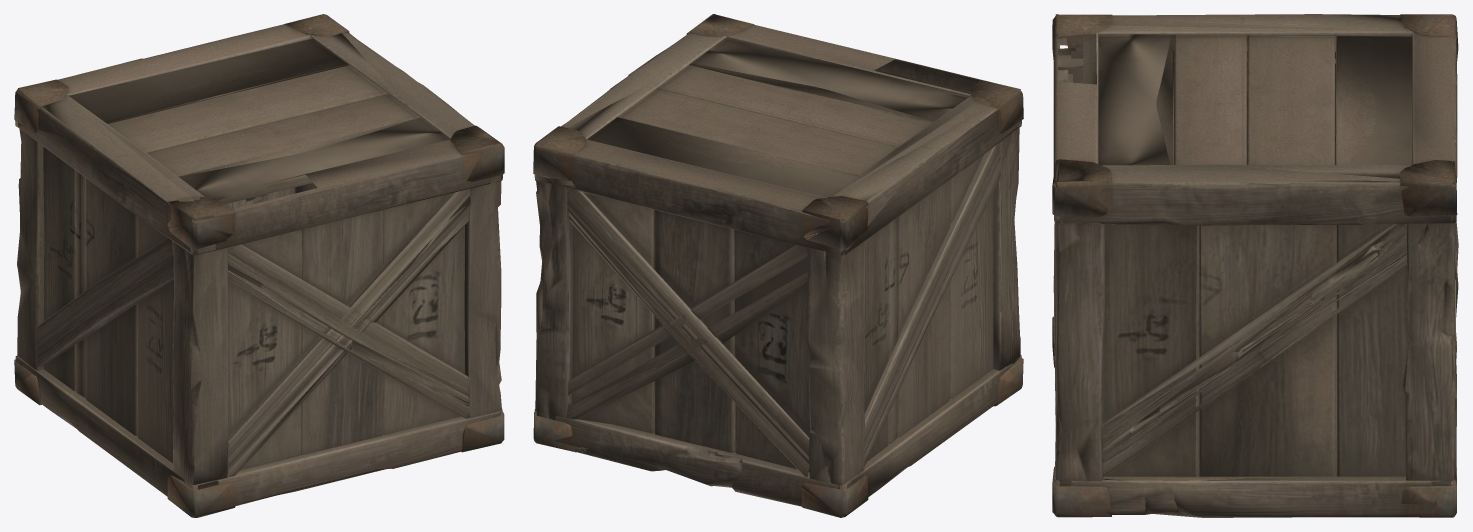
The model's file is crate.glb.
3 views of the same model, side by side, from view 1: azimuth 30°, elevation 25°; view 2: azimuth 150°, elevation 25°; view 3: azimuth 270°, elevation 25° (orthographic). The views are drawn at different scales.
Visible parts, largest first — view 1: crate; view 2: crate; view 3: crate.
Part boxes in pixels (box(x1,y1,x2,y2)): crate: box(14, 14, 504, 517); crate: box(533, 14, 1023, 517); crate: box(1052, 14, 1458, 517).
Size of the model in its own units: 0.9317 by 0.85 by 0.9298.
1 material, 1 textured.
